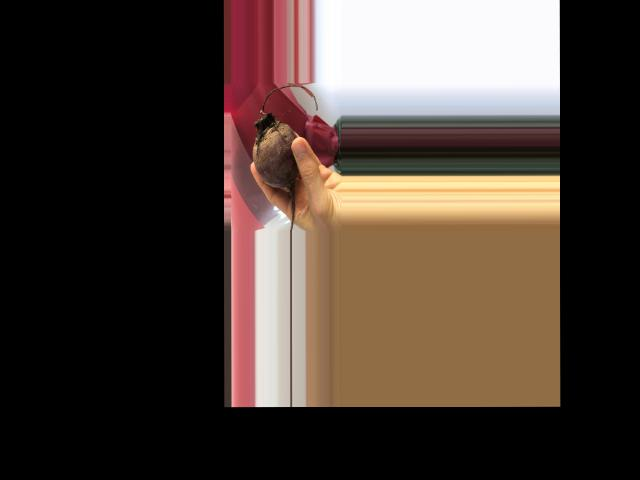beet: (252, 84, 317, 230)
